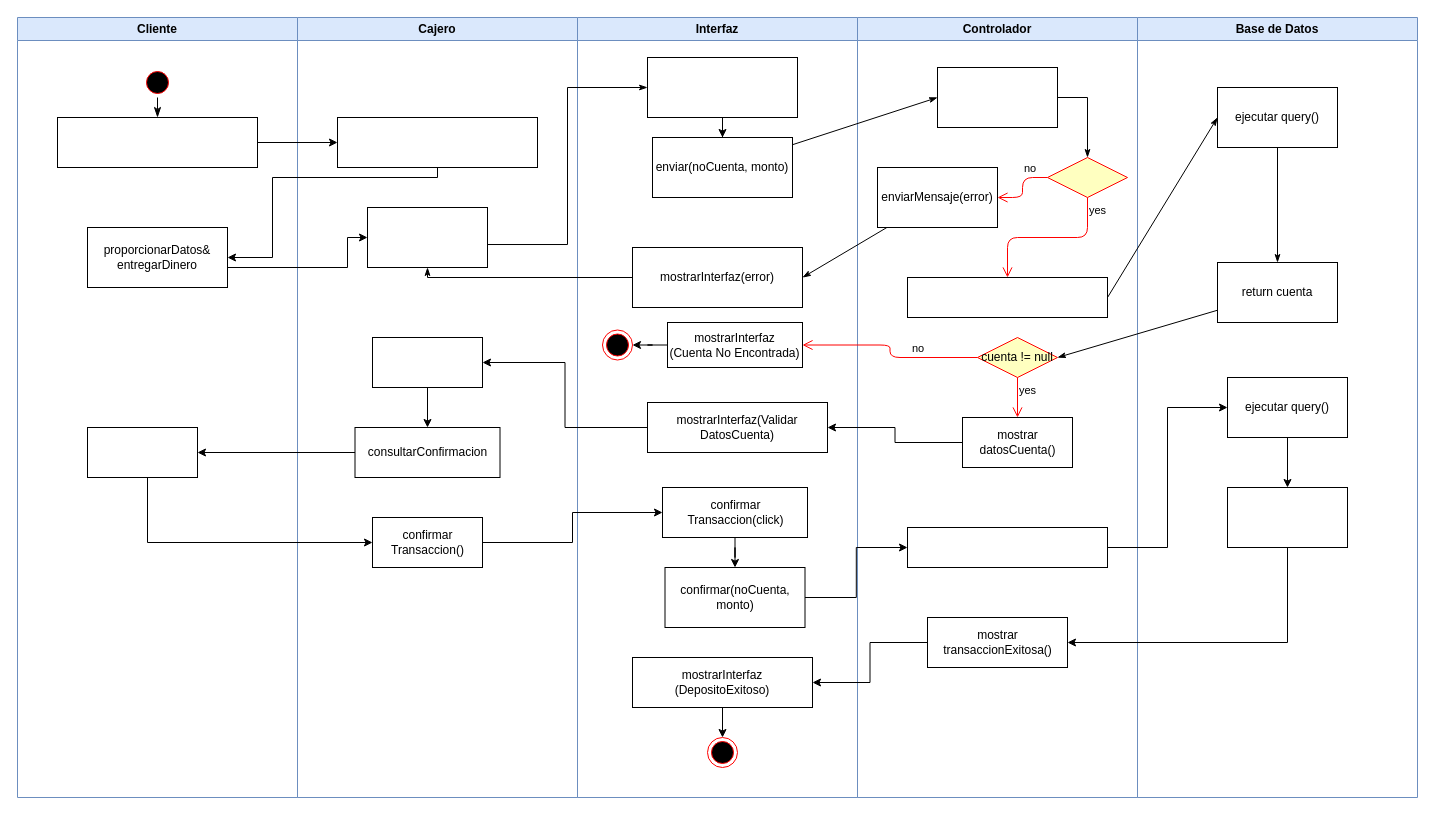
Some shapes in this 1435 by 815 pixel diagram are drawn without their labels. The centre of each missing label's shape, as x and y in pixels:
confirmacionVisual: the point at 427,362
confirmar Transaccion: the point at 142,452
datosValidos: the point at 1087,177
enviar queryConfirmar (noCuenta, monto): the point at 1007,547
enviar queryValidar(noCuenta): the point at 1007,297
ingresarDatos: the point at 427,237
interfaz (RealizarDepósito): the point at 722,87
realizarDeposito: the point at 157,142
return transaccionExitosa: the point at 1287,517
solicitarDatosDeposito(): the point at 437,142
verificarDatos (noCuenta, monto): the point at 997,97
